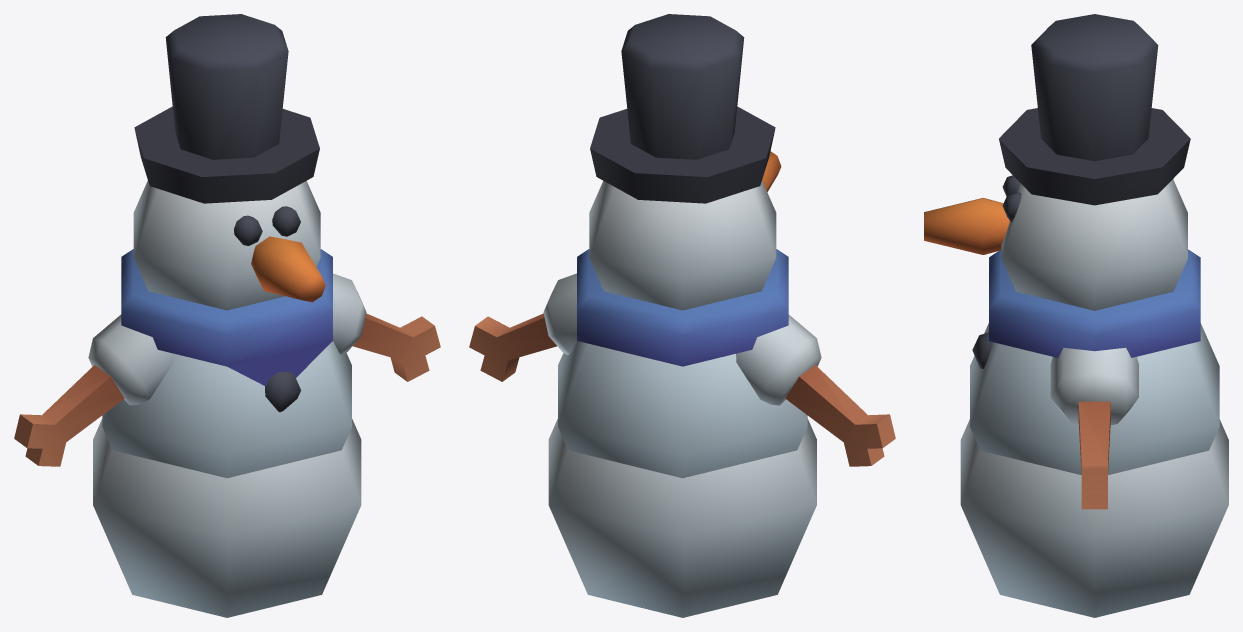
The model's file is sw_snowman_b.glb.
The picture shows the model from 3 angles, left to right: view 1: azimuth 30°, elevation 25°; view 2: azimuth 150°, elevation 25°; view 3: azimuth 270°, elevation 25°; orthographic projection.
Parts seen in each view (by area): view 1: sw_snowman_b; view 2: sw_snowman_b; view 3: sw_snowman_b.
Part boxes in pixels (left/top/right/bottom): sw_snowman_b: left=14, top=14, right=440, bottom=617; sw_snowman_b: left=469, top=14, right=895, bottom=617; sw_snowman_b: left=924, top=14, right=1228, bottom=617.
Size of the model in its own units: 1.5 by 1.9 by 0.9583.
